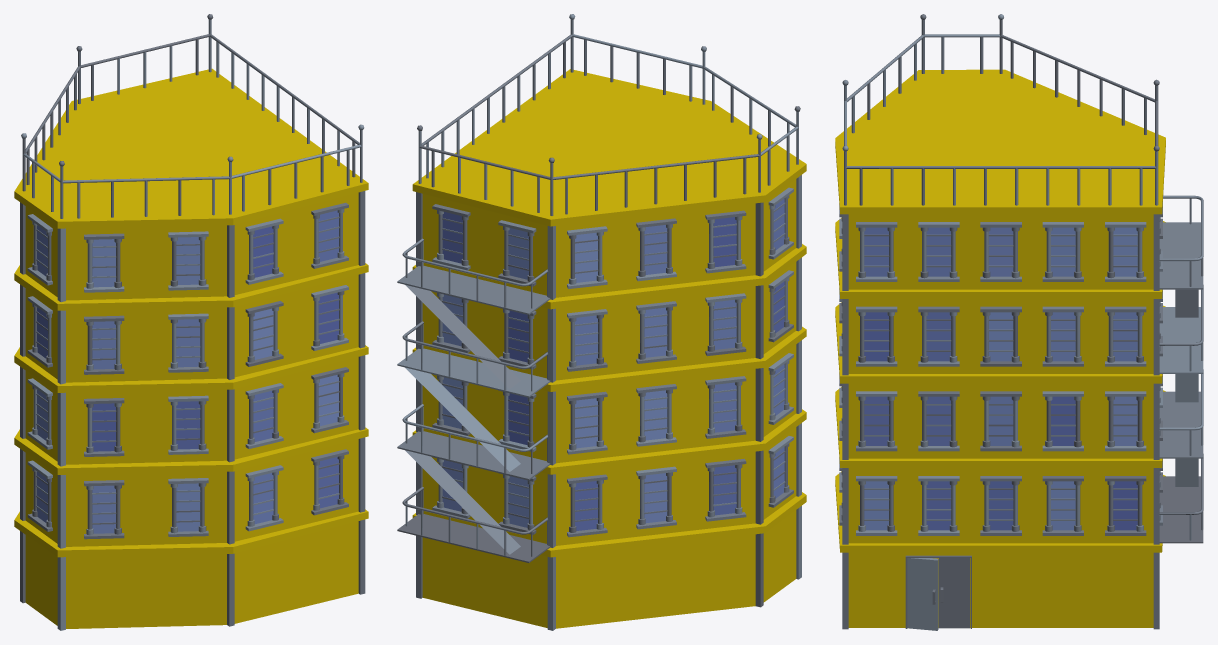
The model's file is Building Procedural.006.fbx.
The picture shows the model from 3 angles, left to right: view 1: azimuth 30°, elevation 25°; view 2: azimuth 150°, elevation 25°; view 3: azimuth 270°, elevation 25°; orthographic projection. The views are drawn at different scales.
Parts seen in each view (by area): view 1: Building Procedural.006; view 2: Building Procedural.006; view 3: Building Procedural.006.
Boxes of the visible parts, bbox=[...] form: Building Procedural.006: bbox=[14, 14, 368, 630]; Building Procedural.006: bbox=[397, 14, 806, 630]; Building Procedural.006: bbox=[835, 14, 1203, 630].
Bounding box in the file's own units: 1065 × 1710 × 1184.
